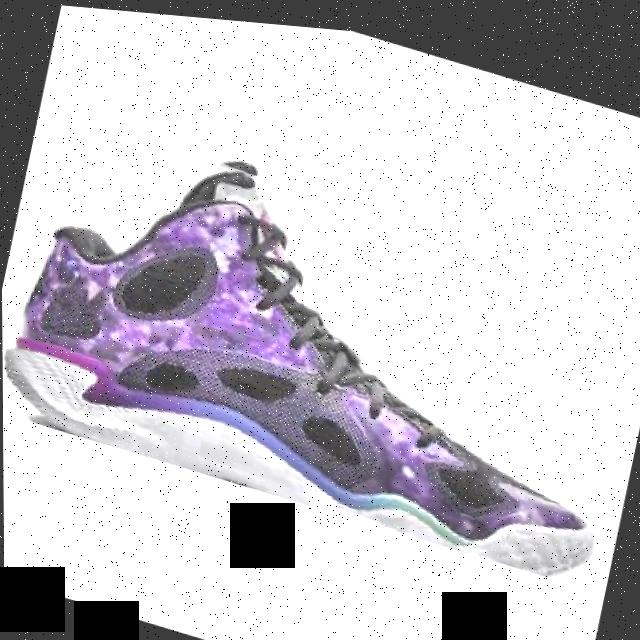shoe: (1, 98, 640, 584)
